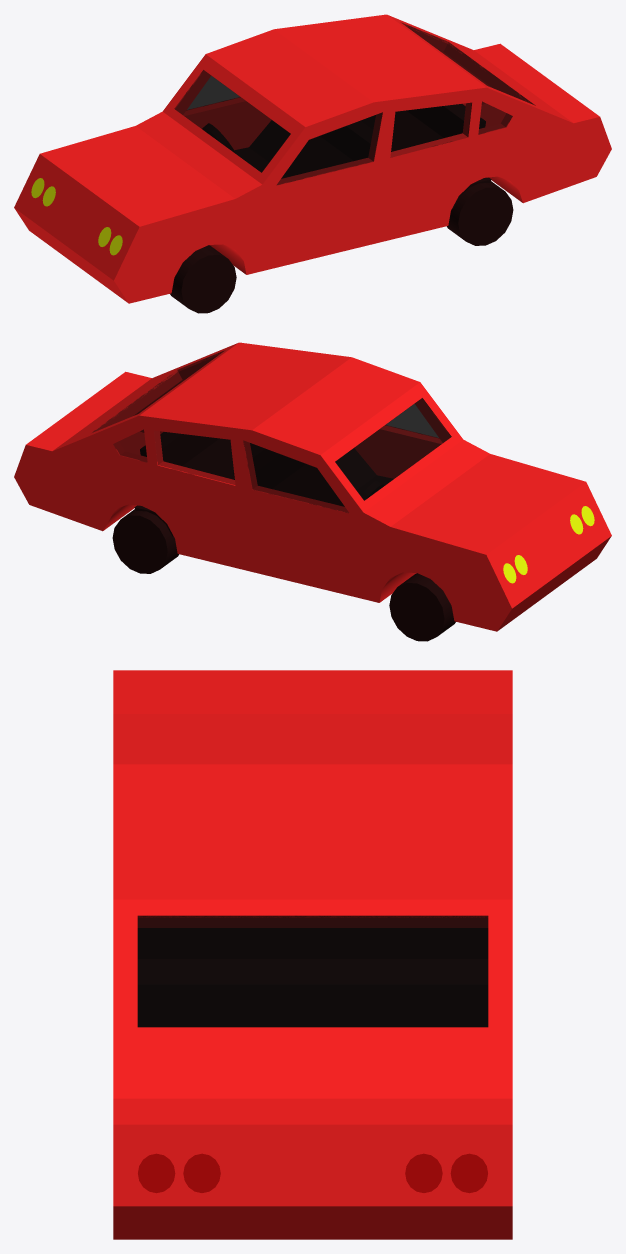
Rendered from car.fbx.
3 renders of one model, top to bottom at view 1: azimuth 30°, elevation 25°; view 2: azimuth 150°, elevation 25°; view 3: azimuth 270°, elevation 25°, orthographic. The views are drawn at different scales.
Visible parts, largest first — view 1: Body, Window, Interior, Tire, FrontLight; view 2: Body, Window, Interior, Tire, FrontLight; view 3: Body, Window, Interior, BackLight.
Boxes of the visible parts, <box> form: Body: <box>14,14,611,303</box>; Window: <box>174,23,535,185</box>; Interior: <box>202,104,491,208</box>; Tire: <box>170,181,513,313</box>; FrontLight: <box>31,178,122,255</box>; Body: <box>14,342,611,631</box>; Window: <box>92,351,451,513</box>; Interior: <box>134,432,393,536</box>; Tire: <box>112,509,455,641</box>; FrontLight: <box>503,506,594,583</box>; Body: <box>113,670,512,1239</box>; Window: <box>137,915,488,1027</box>; Interior: <box>138,928,487,1026</box>; BackLight: <box>138,1153,487,1193</box>.
Bounding box in the file's own units: 504 × 175 × 165.
